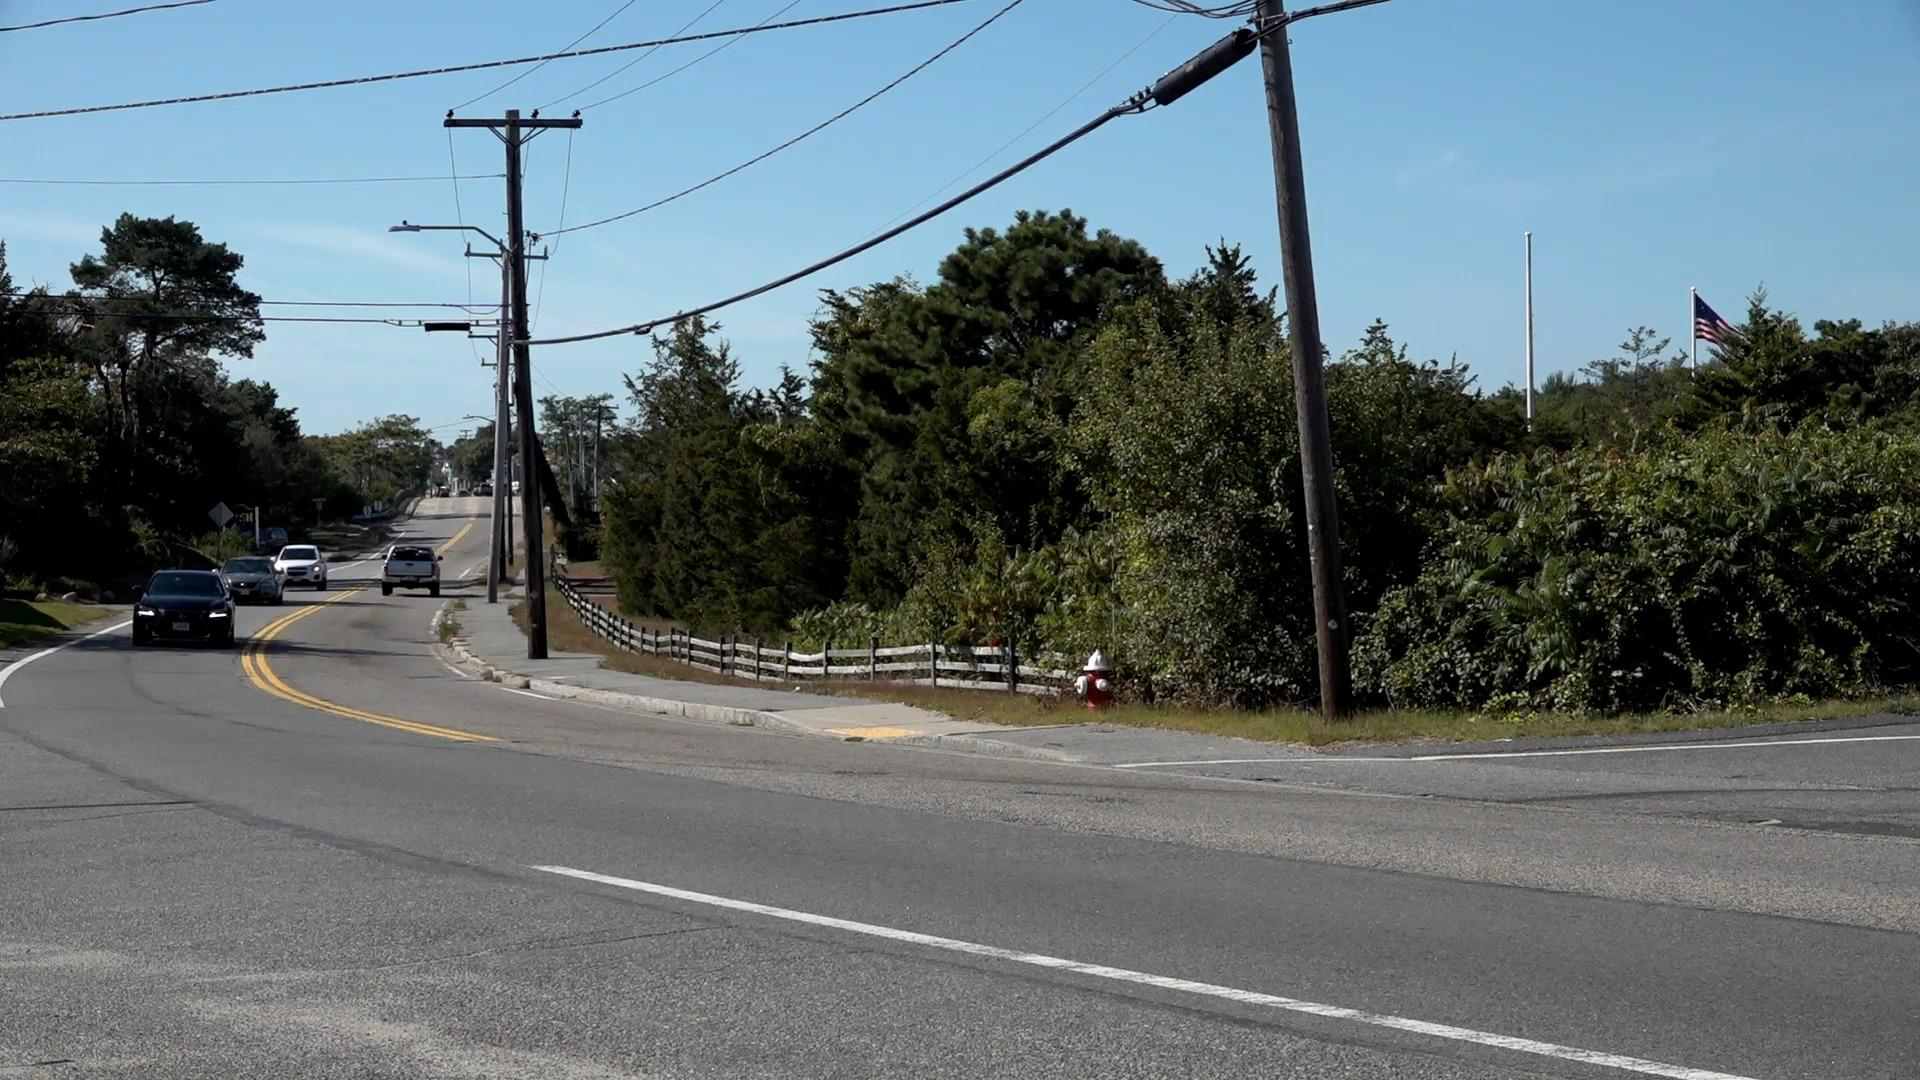sedans: (133, 566, 237, 647)
suv: (374, 542, 445, 603)
